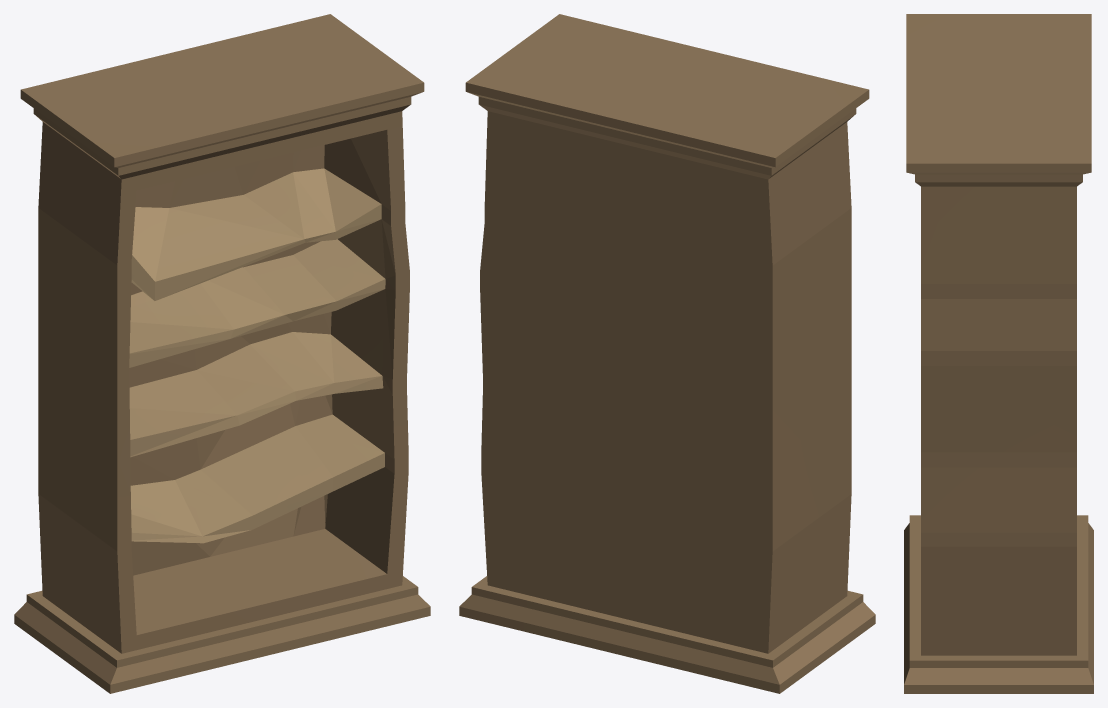
The model's file is shelf_1.obj.
3 views of the same model, side by side, from view 1: azimuth 30°, elevation 25°; view 2: azimuth 150°, elevation 25°; view 3: azimuth 270°, elevation 25° (orthographic).
Parts seen in each view (by area): view 1: shelf_1_Material; view 2: shelf_1_Material; view 3: shelf_1_Material.
Boxes of the visible parts, x1,y1,x2,y2 form: shelf_1_Material: (14,14,430,693); shelf_1_Material: (459,14,875,693); shelf_1_Material: (904,14,1093,693).
Size of the model in its own units: 1.01 by 1.6 by 0.5232.
